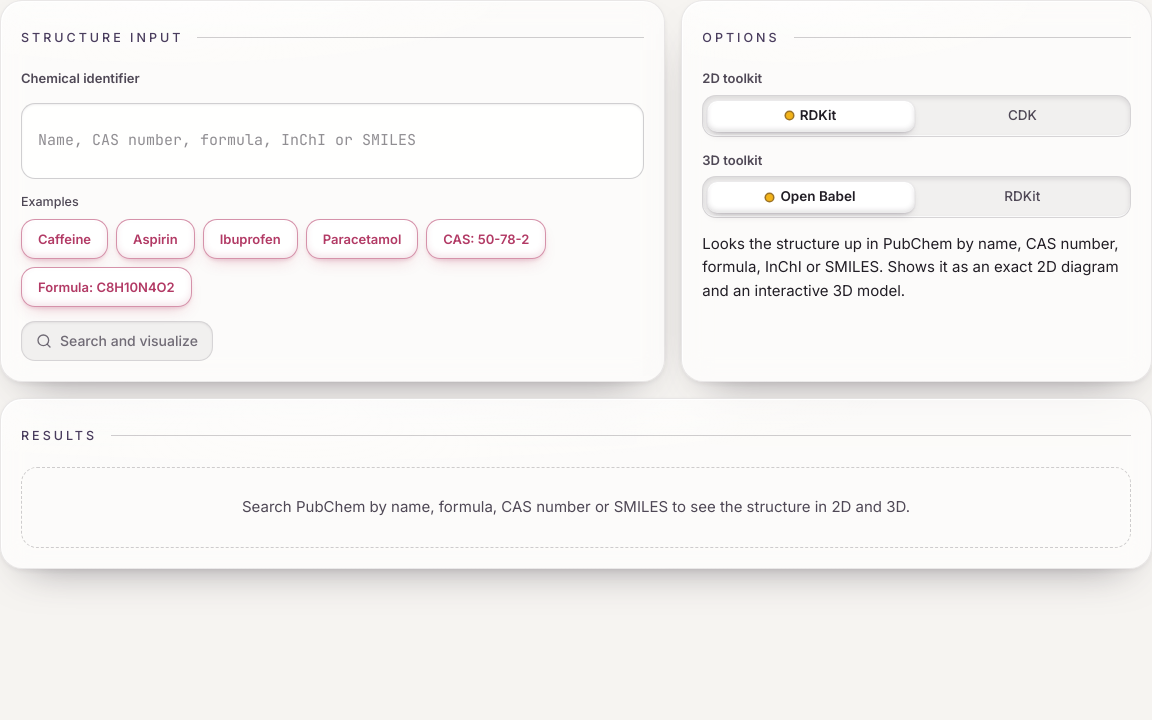
Test case: StructureVisualizerView (bento) › fills the field from an example
Click the button "CAS: 50-78-2" at (486, 239), box left=426, top=219, right=546, bottom=259
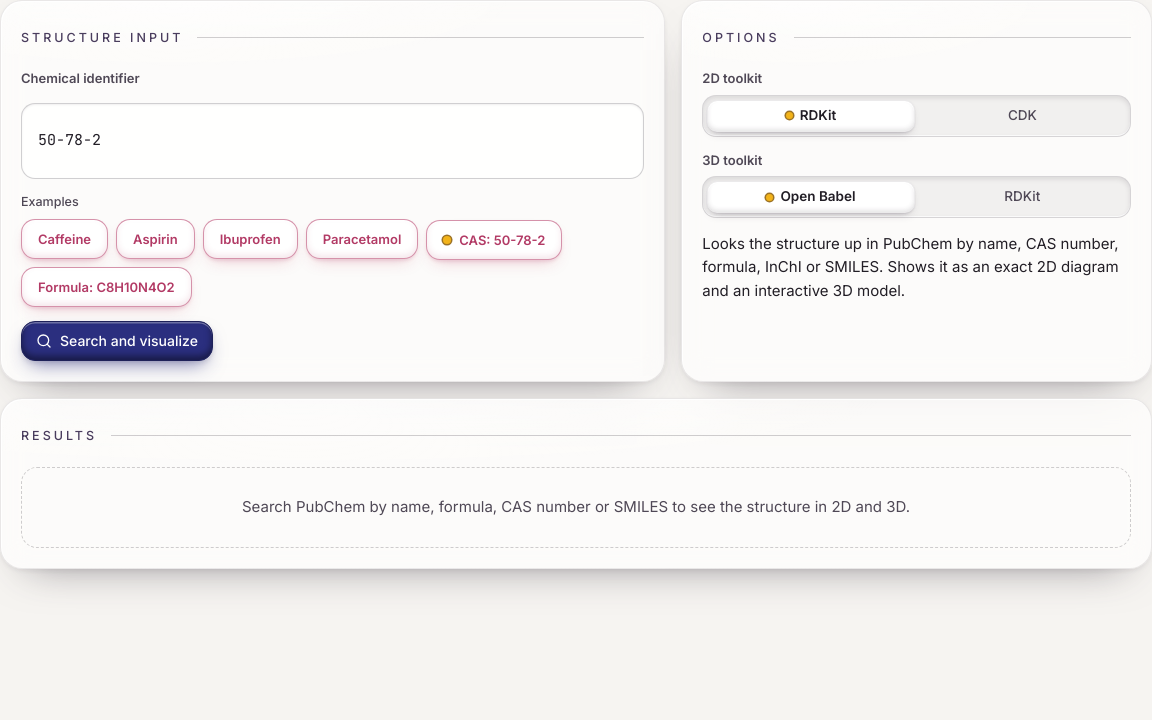
Expected: the field labelled "Chemical identifier" holds "50-78-2", left=21, top=102, right=644, bottom=178
